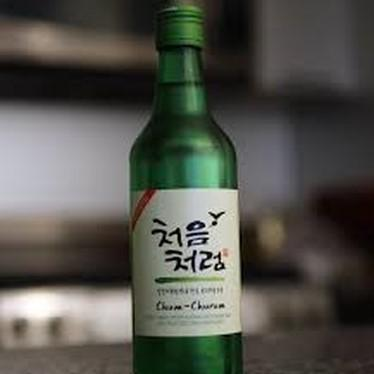soju: (126, 3, 247, 374)
